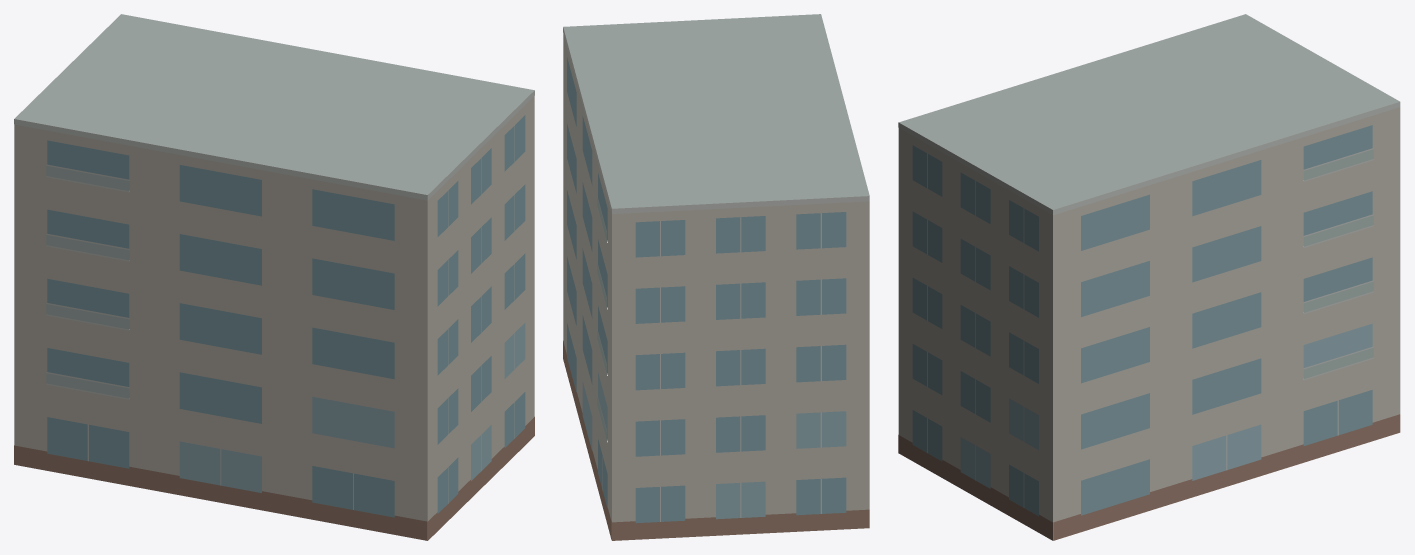
File: survey-upis-32657350.glb
3 renders of one model, left to right at view 1: azimuth 30°, elevation 25°; view 2: azimuth 150°, elevation 25°; view 3: azimuth 270°, elevation 25°, orthographic. The views are drawn at different scales.
Visible parts, largest first — view 1: survey-upis-32657350.tmp; view 2: survey-upis-32657350.tmp; view 3: survey-upis-32657350.tmp.
Part boxes in pixels (bbox=[...]): survey-upis-32657350.tmp: bbox=[14, 14, 534, 540]; survey-upis-32657350.tmp: bbox=[563, 14, 869, 540]; survey-upis-32657350.tmp: bbox=[898, 14, 1400, 540].
Size of the model in its own units: 19.46 by 15.3 by 21.04.
